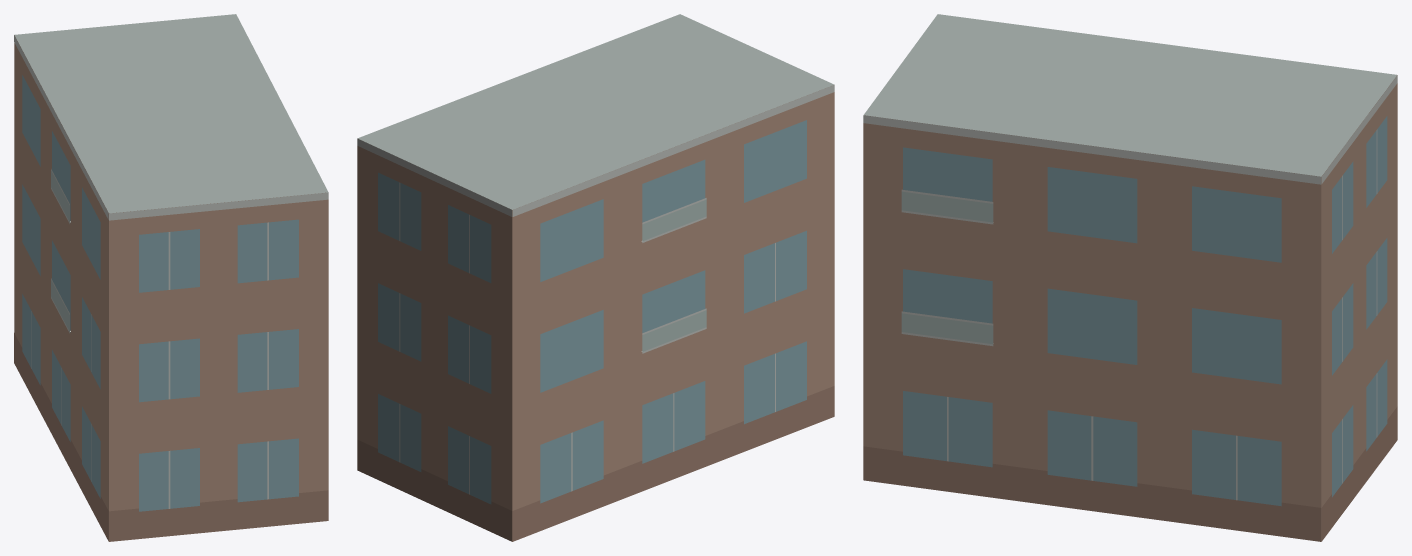
File: survey-upis-32868919.glb
The picture shows the model from 3 angles, left to right: view 1: azimuth 30°, elevation 25°; view 2: azimuth 150°, elevation 25°; view 3: azimuth 270°, elevation 25°; orthographic projection. The views are drawn at different scales.
Visible parts, largest first — view 1: survey-upis-32868919.tmp; view 2: survey-upis-32868919.tmp; view 3: survey-upis-32868919.tmp.
Boxes of the visible parts, left/top/right/bottom form: survey-upis-32868919.tmp: left=14, top=14, right=328, bottom=541; survey-upis-32868919.tmp: left=357, top=14, right=834, bottom=541; survey-upis-32868919.tmp: left=863, top=14, right=1397, bottom=541.
Size of the model in its own units: 10.66 by 11.15 by 14.79.
